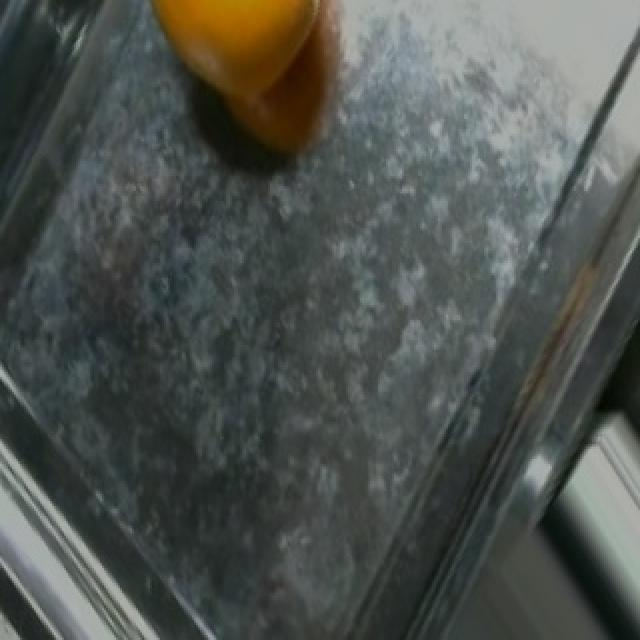Fruit: (114, 2, 374, 184)
